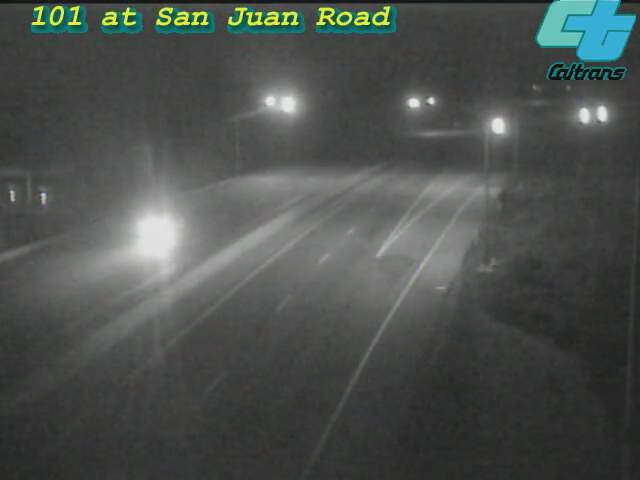vehicle: (119, 194, 199, 274), (472, 101, 522, 151), (558, 91, 608, 141), (577, 90, 627, 140)
